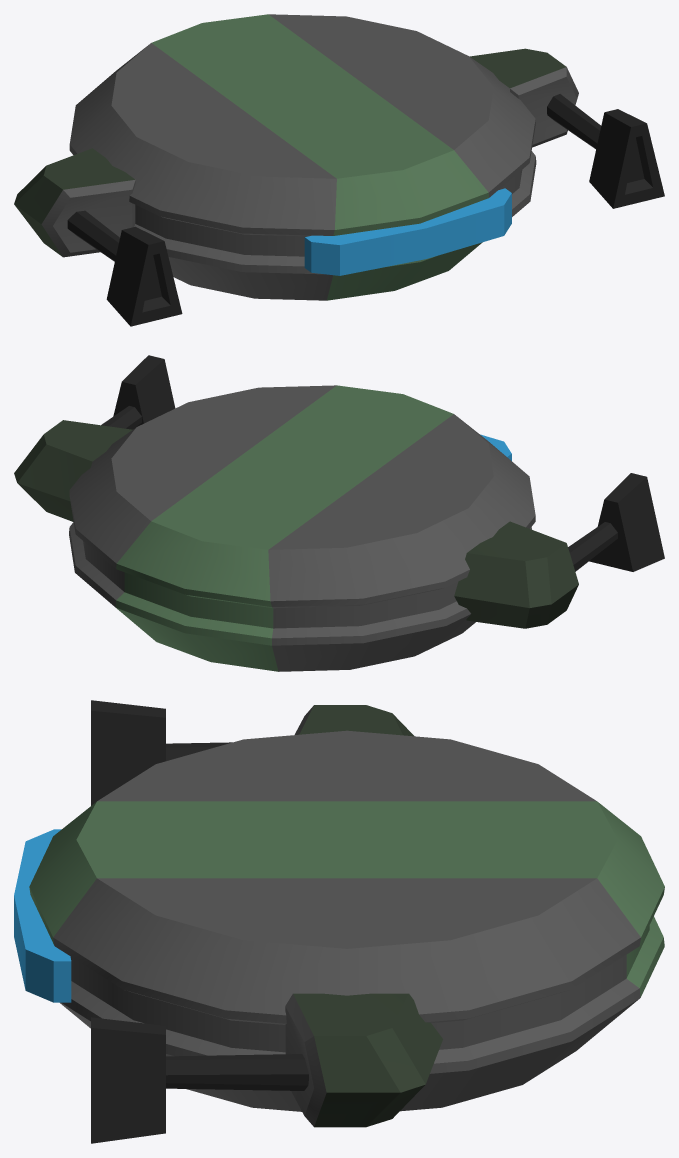
File: ShockTrooperDrone.fbx
3 views of the same model, one above another, from view 1: azimuth 30°, elevation 25°; view 2: azimuth 150°, elevation 25°; view 3: azimuth 270°, elevation 25° (orthographic). The views are drawn at different scales.
Visible parts, largest first — view 1: trooper_drone; view 2: trooper_drone; view 3: trooper_drone.
Boxes of the visible parts, left/top/right/bottom form: trooper_drone: left=14, top=14, right=664, bottom=326; trooper_drone: left=14, top=355, right=664, bottom=671; trooper_drone: left=14, top=700, right=664, bottom=1143.
Bounding box in the file's own units: 0.9391 × 0.2119 × 0.7311.
